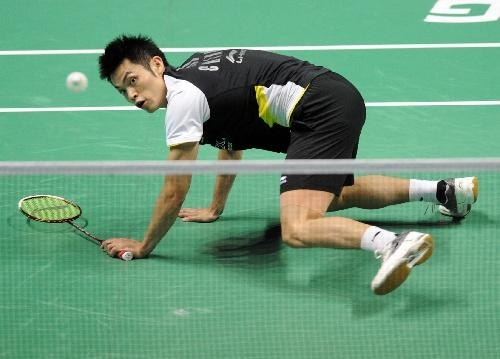falling: (87, 20, 484, 293)
